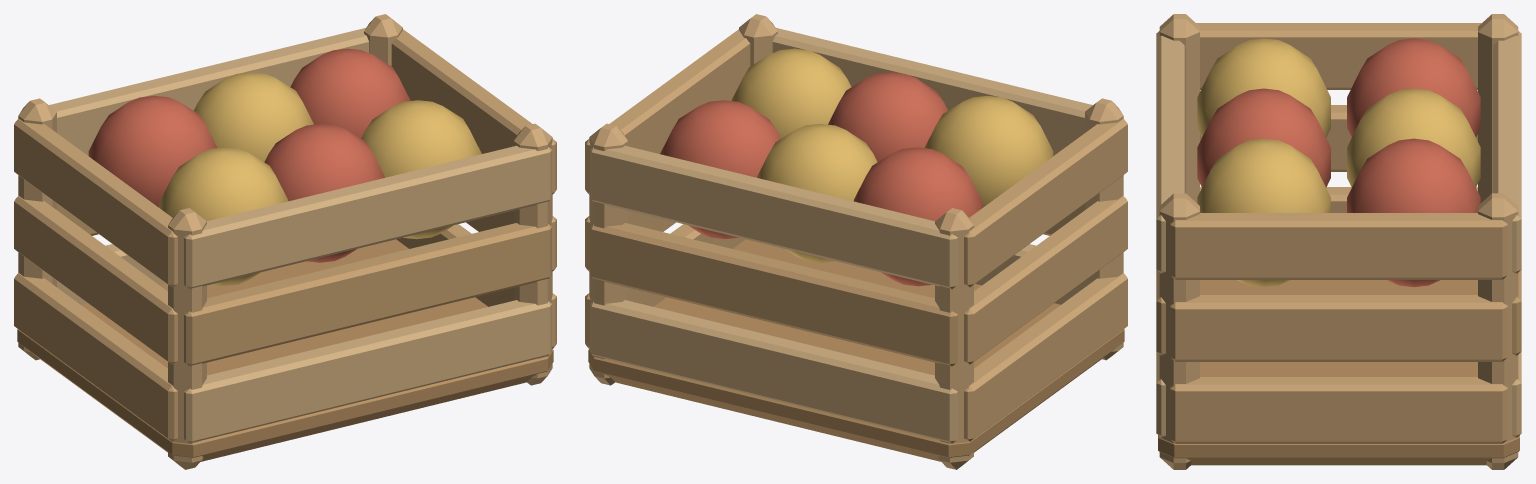
Rendered from harvest_crate.glb.
The picture shows the model from 3 angles, left to right: view 1: azimuth 30°, elevation 25°; view 2: azimuth 150°, elevation 25°; view 3: azimuth 270°, elevation 25°; orthographic projection. The views are drawn at different scales.
Parts seen in each view (by area): view 1: _MeshInstance3D_1093, _MeshInstance3D_1097, _MeshInstance3D_1090, CrateFloor, _MeshInstance3D_1098, EndSlat, _MeshInstance3D_1094, Harvest, _MeshInstance3D_1096, _MeshInstance3D_1099, _MeshInstance3D_1101, _MeshInstance3D_1100 (+10 smaller); view 2: _MeshInstance3D_1092, _MeshInstance3D_1096, CrateSlat, CrateFloor, _MeshInstance3D_1098, EndSlat, _MeshInstance3D_1094, _MeshInstance3D_1102, _MeshInstance3D_1097, _MeshInstance3D_1099, _MeshInstance3D_1104, _MeshInstance3D_1103 (+10 smaller); view 3: _MeshInstance3D_1095, _MeshInstance3D_1099, _MeshInstance3D_1091, CrateFloor, _MeshInstance3D_1098, _MeshInstance3D_1101, _MeshInstance3D_1104, Harvest, _MeshInstance3D_1102, _MeshInstance3D_1100, _MeshInstance3D_1103, _MeshInstance3D_1096 (+11 smaller).
Part boxes in pixels (bbox=[...]): _MeshInstance3D_1093: bbox=[184, 223, 551, 366]; _MeshInstance3D_1097: bbox=[184, 145, 551, 289]; _MeshInstance3D_1090: bbox=[184, 300, 551, 443]; CrateFloor: bbox=[17, 239, 553, 461]; _MeshInstance3D_1098: bbox=[14, 119, 177, 287]; EndSlat: bbox=[14, 273, 177, 441]; _MeshInstance3D_1094: bbox=[14, 196, 177, 364]; Harvest: bbox=[88, 95, 217, 207]; _MeshInstance3D_1096: bbox=[49, 28, 369, 155]; _MeshInstance3D_1099: bbox=[391, 29, 556, 194]; _MeshInstance3D_1101: bbox=[290, 48, 410, 138]; _MeshInstance3D_1100: bbox=[194, 72, 313, 161]; _MeshInstance3D_1092: bbox=[590, 223, 957, 366]; _MeshInstance3D_1096: bbox=[590, 145, 957, 289]; CrateSlat: bbox=[590, 300, 957, 443]; CrateFloor: bbox=[588, 239, 1124, 461]; _MeshInstance3D_1098: bbox=[964, 119, 1127, 287]; EndSlat: bbox=[964, 273, 1127, 441]; _MeshInstance3D_1094: bbox=[964, 196, 1127, 364]; _MeshInstance3D_1102: bbox=[924, 95, 1053, 207]; _MeshInstance3D_1097: bbox=[772, 28, 1092, 155]; _MeshInstance3D_1099: bbox=[585, 29, 750, 194]; _MeshInstance3D_1104: bbox=[731, 48, 851, 138]; _MeshInstance3D_1103: bbox=[828, 72, 947, 161]; _MeshInstance3D_1095: bbox=[1170, 295, 1507, 361]; _MeshInstance3D_1099: bbox=[1170, 213, 1507, 279]; _MeshInstance3D_1091: bbox=[1170, 377, 1507, 443]; CrateFloor: bbox=[1158, 280, 1519, 465]; _MeshInstance3D_1098: bbox=[1196, 23, 1481, 89]; _MeshInstance3D_1101: bbox=[1347, 138, 1480, 287]; _MeshInstance3D_1104: bbox=[1197, 138, 1330, 287]; Harvest: bbox=[1347, 38, 1480, 137]; _MeshInstance3D_1102: bbox=[1197, 38, 1330, 137]; _MeshInstance3D_1100: bbox=[1347, 88, 1480, 187]; _MeshInstance3D_1103: bbox=[1197, 88, 1330, 187]; _MeshInstance3D_1096: bbox=[1493, 31, 1521, 273].
Size of the model in its own units: 0.765 by 0.5 by 0.585.
